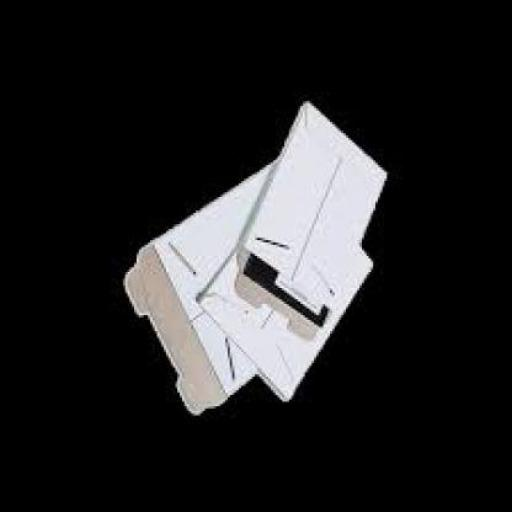cardboard: (125, 157, 321, 412), (234, 91, 391, 332), (198, 189, 376, 396)
